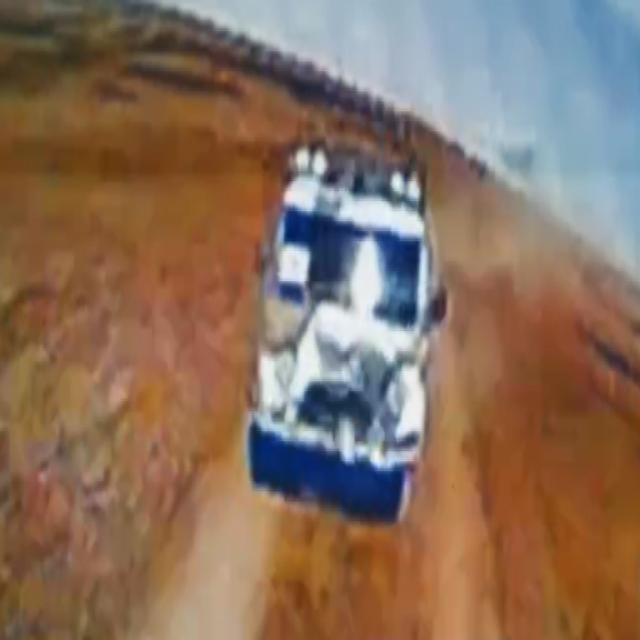CAR: (245, 132, 440, 511)
